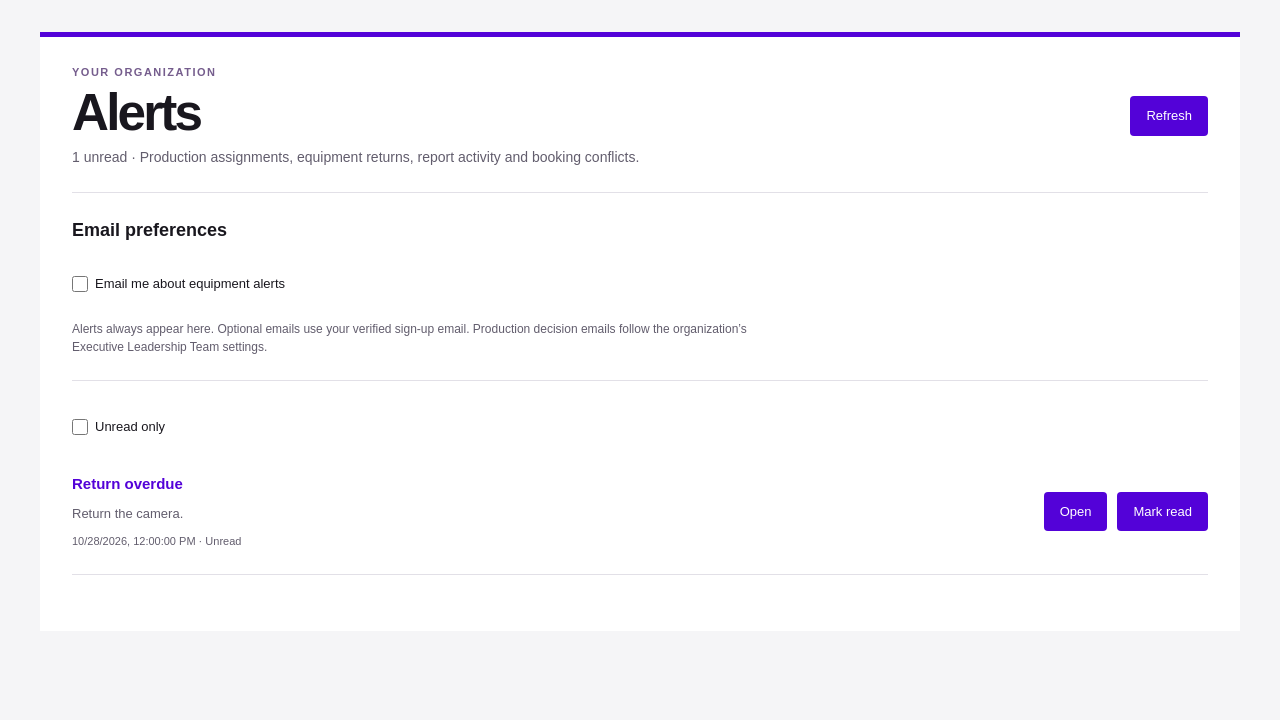
it: Personal alert workspace › retains unread state on failure and does not navigate
Click the button "Open". click: {"x": 1076, "y": 511}
box: [1044,492,1108,531]
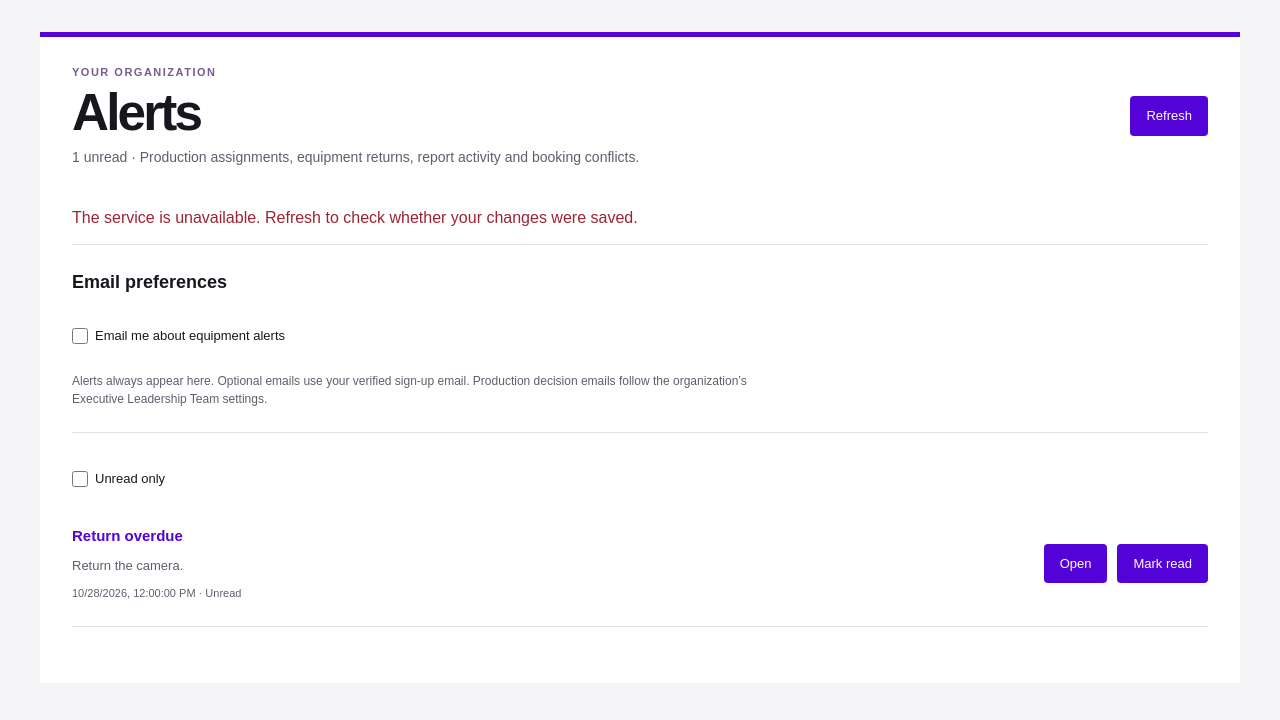
Expected: the button "Mark read" is shown, [1118,544,1208,583]
Now the message shows "service is unavailable", box [72,209,638,226]
